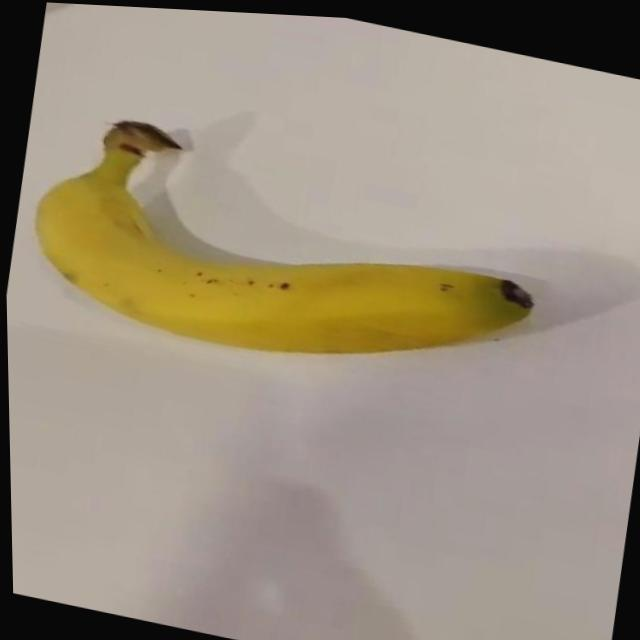Banana: (19, 100, 552, 403)
